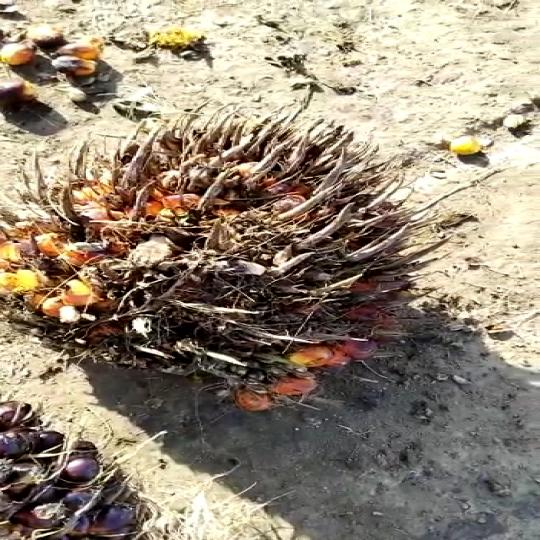terlalu masak: (0, 101, 443, 431)
